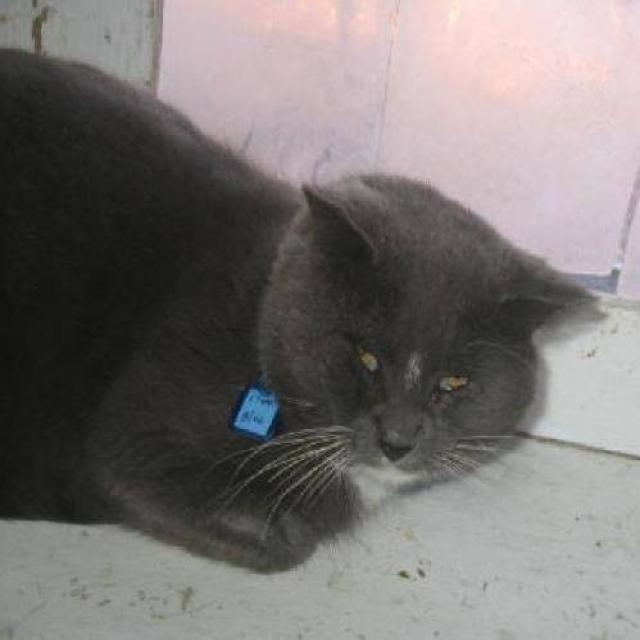cat: (0, 43, 605, 575)
